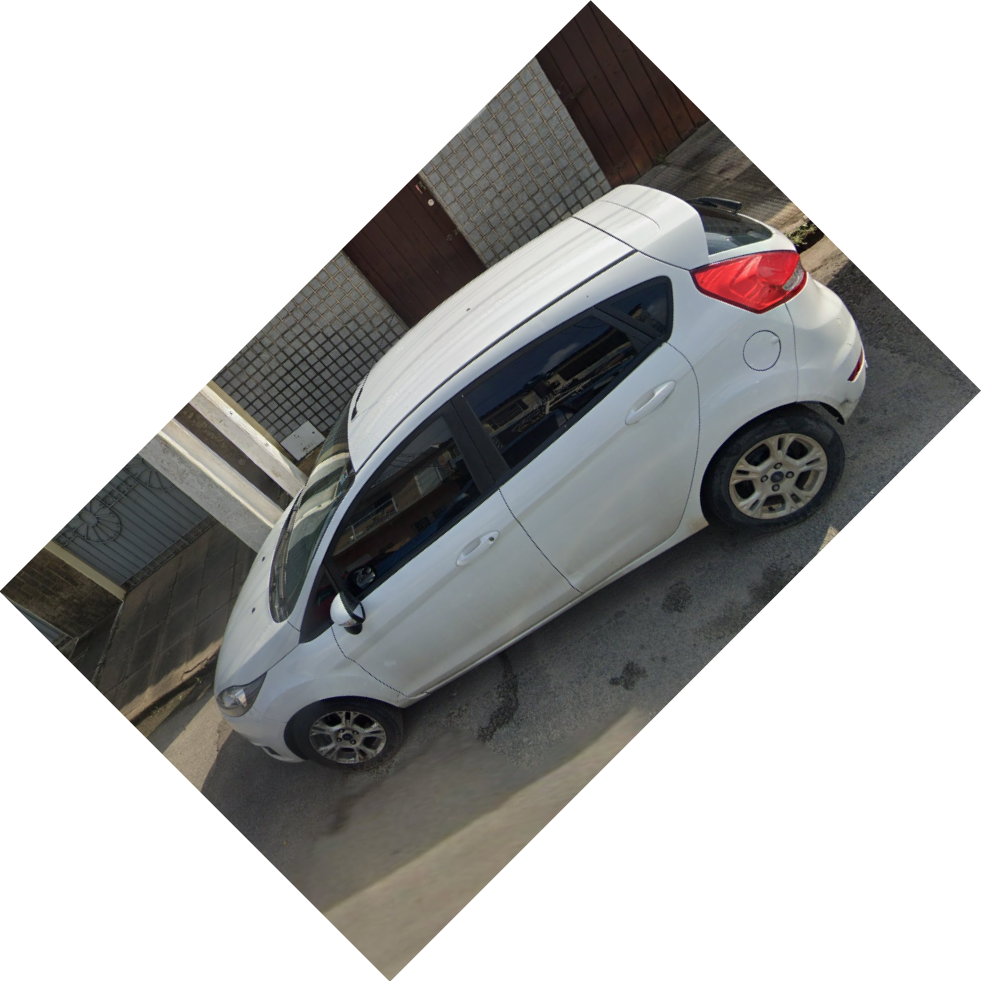car: (211, 186, 868, 771)
